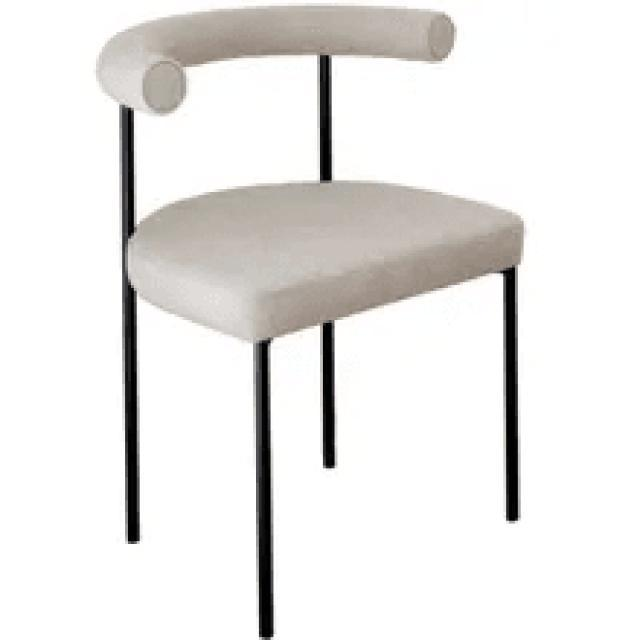chair: (92, 4, 530, 640), (104, 6, 524, 339)
